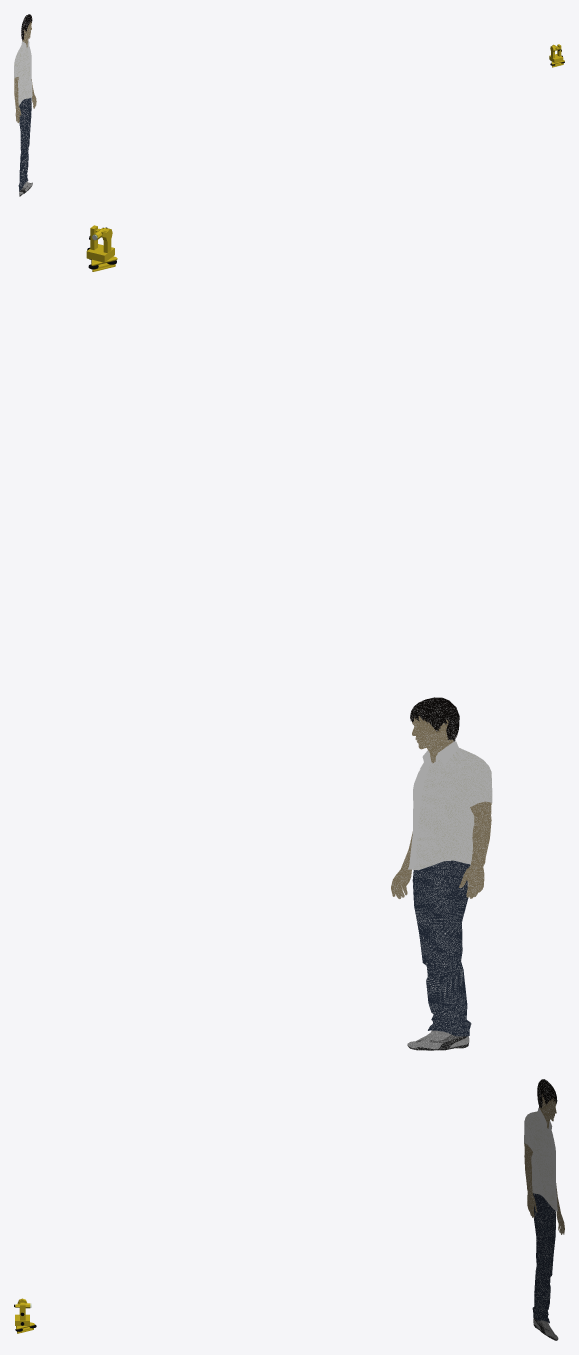
File: vtg.dae
3 renders of one model, top to bottom at view 1: azimuth 30°, elevation 25°; view 2: azimuth 150°, elevation 25°; view 3: azimuth 270°, elevation 25°, orthographic. The views are drawn at different scales.
Parts seen in each view (by area): view 1: Sang (×2); view 2: Sang (×5); view 3: Sang (×4).
Part boxes in pixels (x1,y1,x2,y2): Sang (×2): (14, 45, 31, 191); Sang (×5): (410, 697, 492, 1036); Sang (×4): (524, 1079, 557, 1323).
Size of the model in its own units: 155 by 135 by 76.09.
